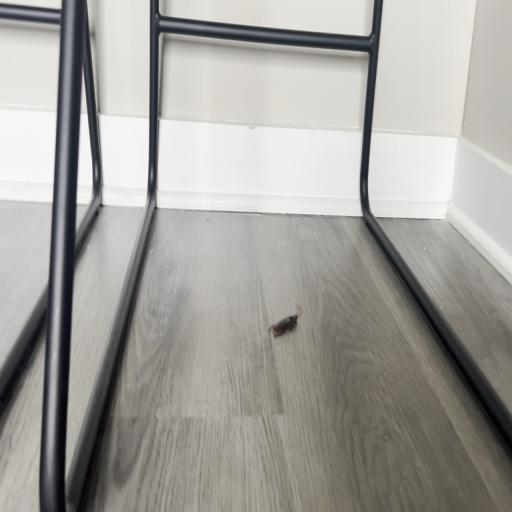cockroach: (268, 304, 302, 339)
